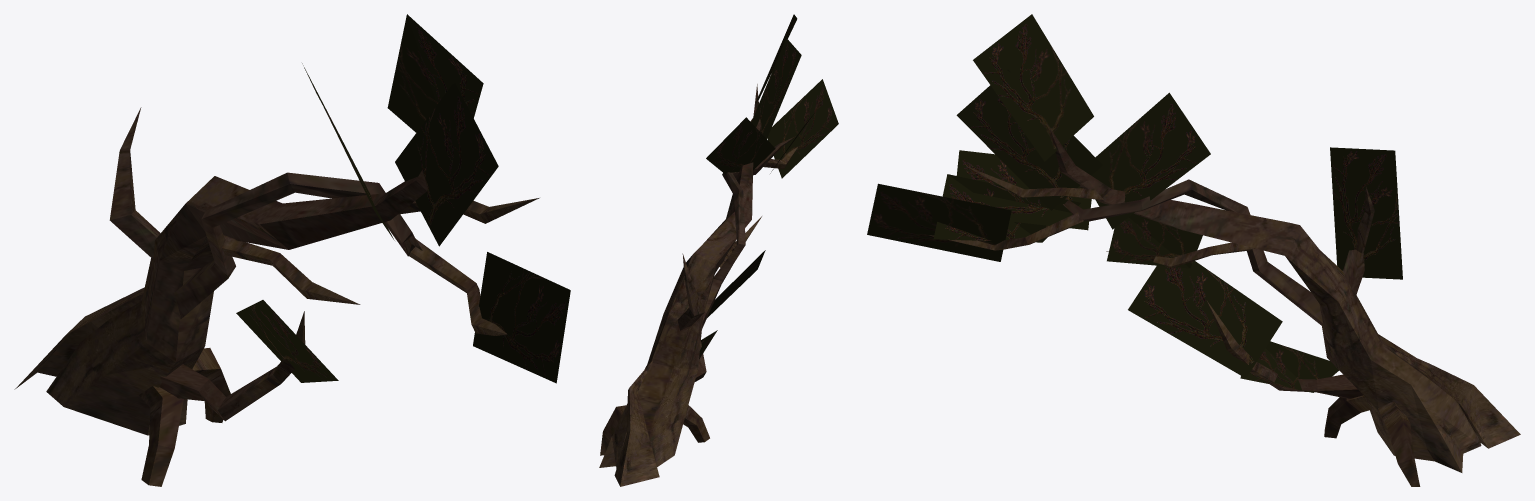
The model's file is SC001Jzhiwu_08.FBX.
3 renders of one model, left to right at view 1: azimuth 30°, elevation 25°; view 2: azimuth 150°, elevation 25°; view 3: azimuth 270°, elevation 25°, orthographic. The views are drawn at different scales.
Parts seen in each view (by area): view 1: SC001Jzhiwu_08 (×2); view 2: SC001Jzhiwu_08 (×2); view 3: SC001Jzhiwu_08 (×2).
Boxes of the visible parts, x1=… form: SC001Jzhiwu_08 (×2): x1=14, y1=14, x2=570, y2=486; SC001Jzhiwu_08 (×2): x1=599, y1=14, x2=838, y2=486; SC001Jzhiwu_08 (×2): x1=867, y1=14, x2=1520, y2=486.
Bounding box in the file's own units: 1.21 × 4.49 × 5.98.
